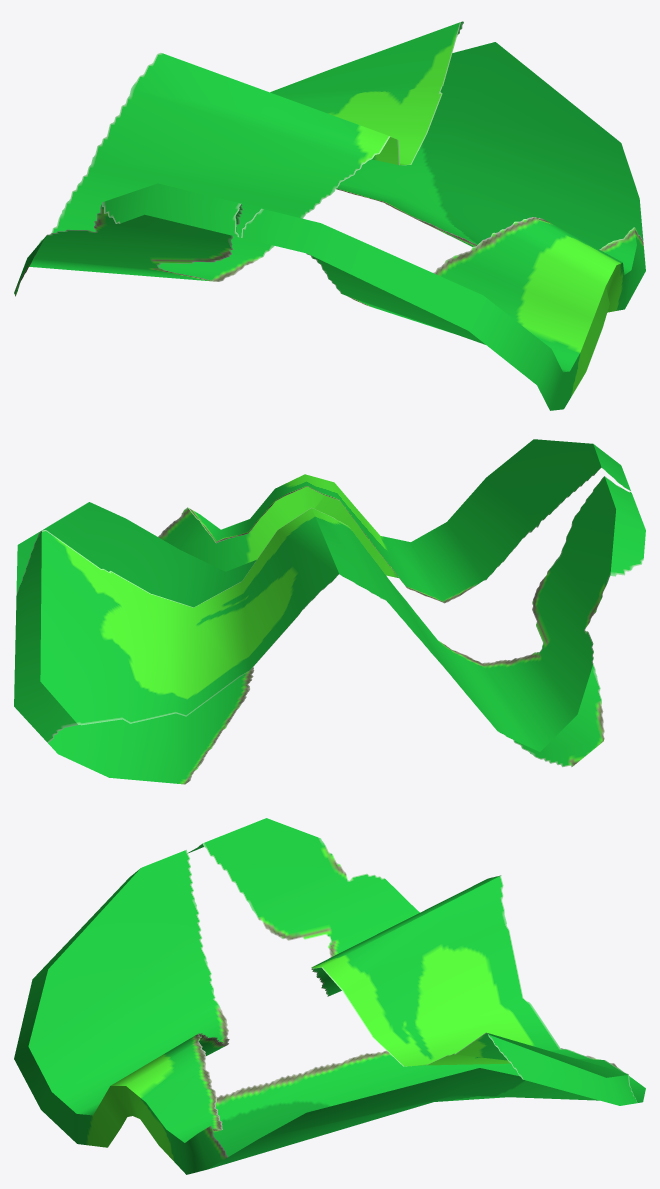
Rendered from LettuceCut.03.fbx.
3 views of the same model, one above another, from view 1: azimuth 30°, elevation 25°; view 2: azimuth 150°, elevation 25°; view 3: azimuth 270°, elevation 25° (orthographic). The views are drawn at different scales.
Parts seen in each view (by area): view 1: LettuceCut.03; view 2: LettuceCut.03; view 3: LettuceCut.03.
Part boxes in pixels (bbox=[...]): LettuceCut.03: bbox=[14, 21, 645, 410]; LettuceCut.03: bbox=[14, 439, 645, 784]; LettuceCut.03: bbox=[14, 818, 645, 1174].
Bounding box in the file's own units: 44.06 × 17 × 49.21.
